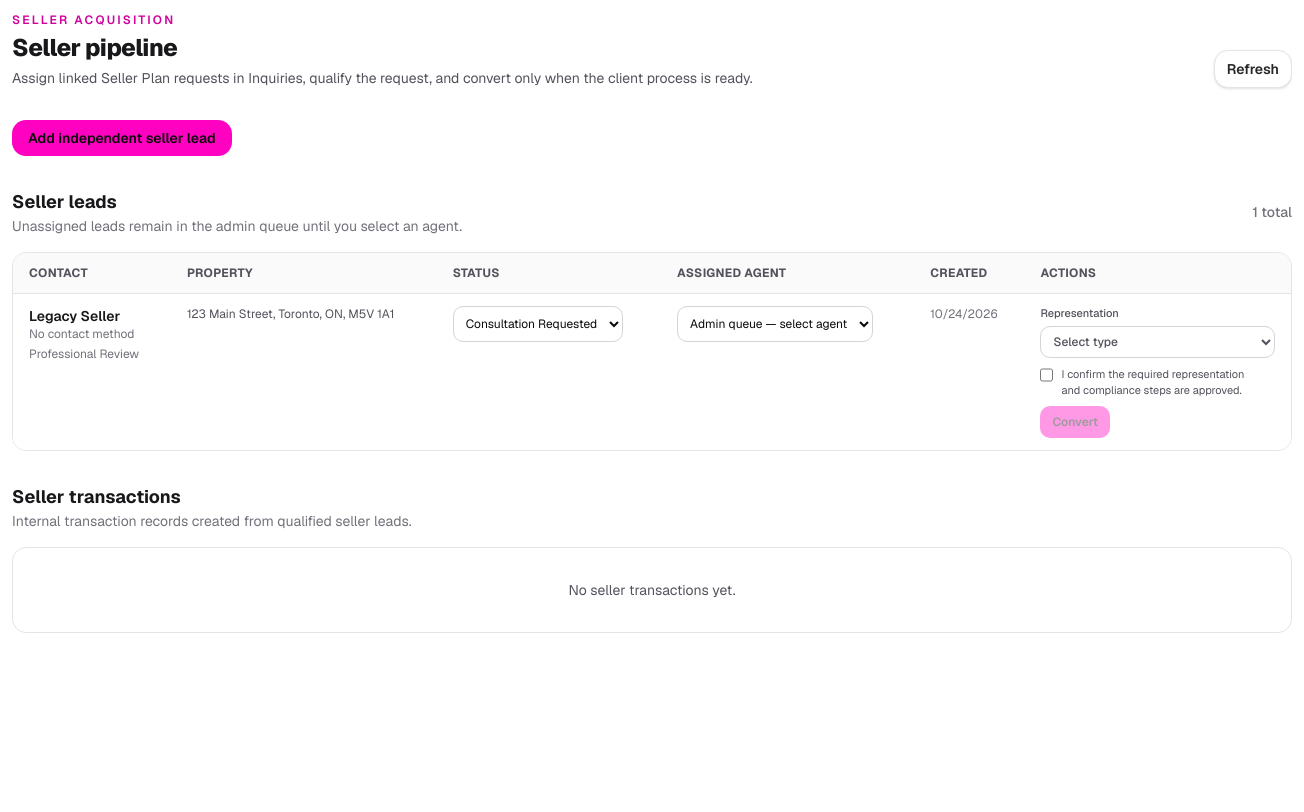
conversion errors stay with the independent lead and keep backend detail
The image size is (1304, 812).
Select "Brokerage" in the dropdown labelled "Representation": (1158, 342) left=1040, top=326, right=1275, bottom=358
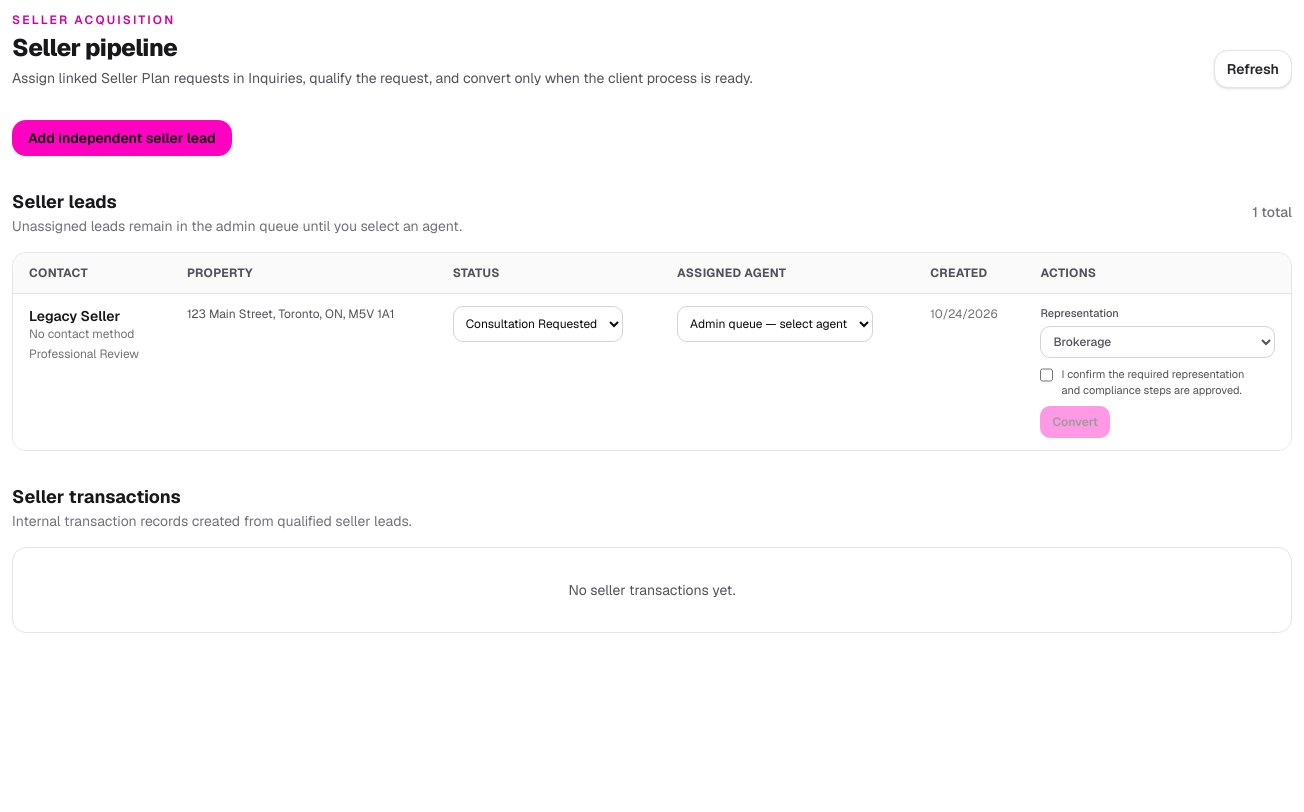
Click the checkbox labelled "required representation and compliance": (1047, 375) left=1040, top=368, right=1054, bottom=382
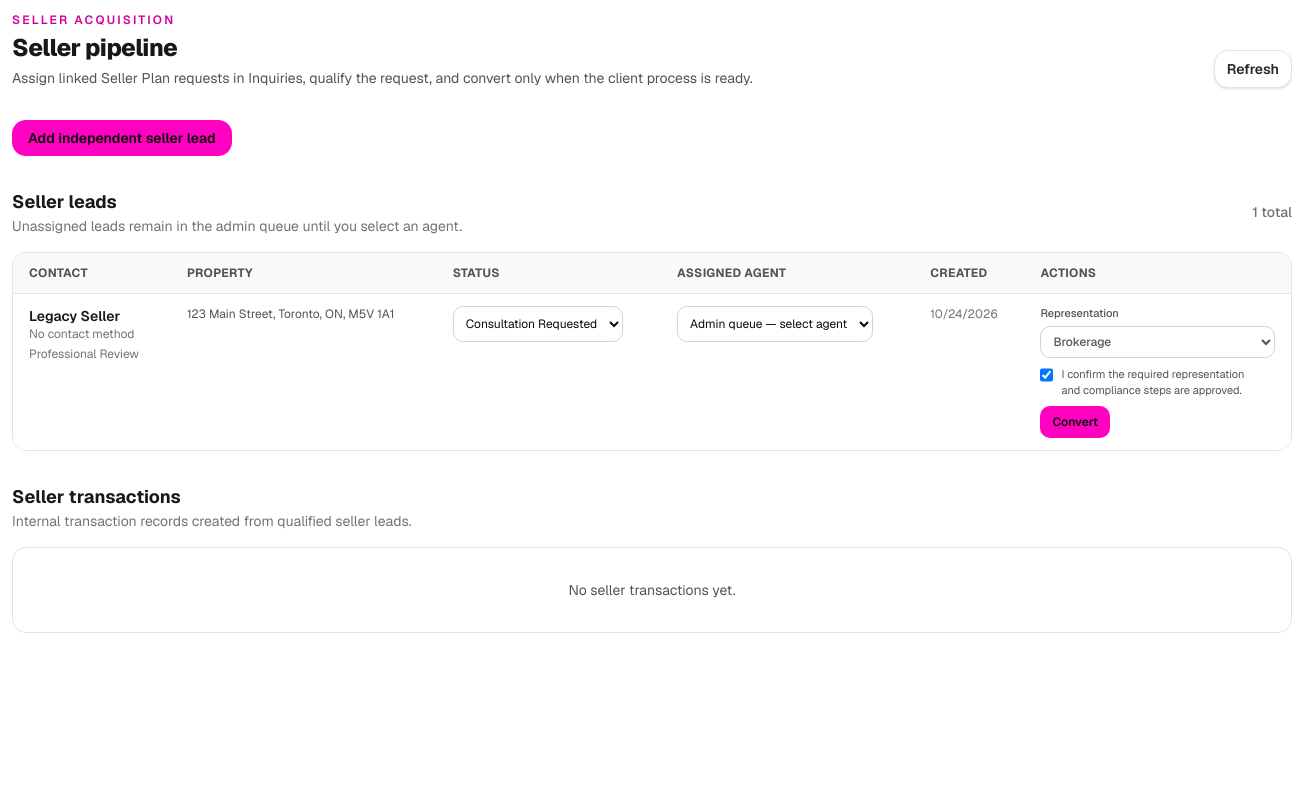
Click the button "Convert": (1075, 422) left=1040, top=406, right=1110, bottom=438
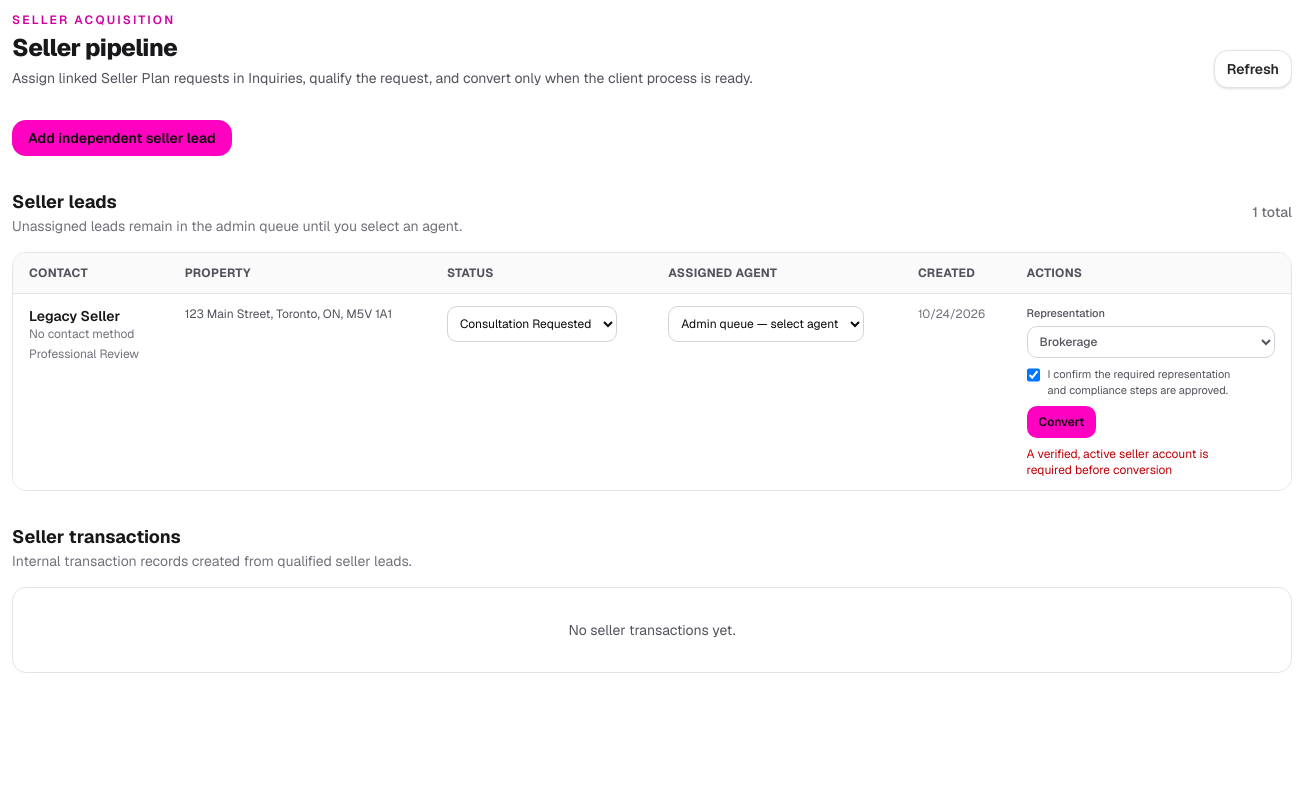
Check: the message reads "A verified, active seller account is required before conversion", box left=1027, top=446, right=1208, bottom=478
